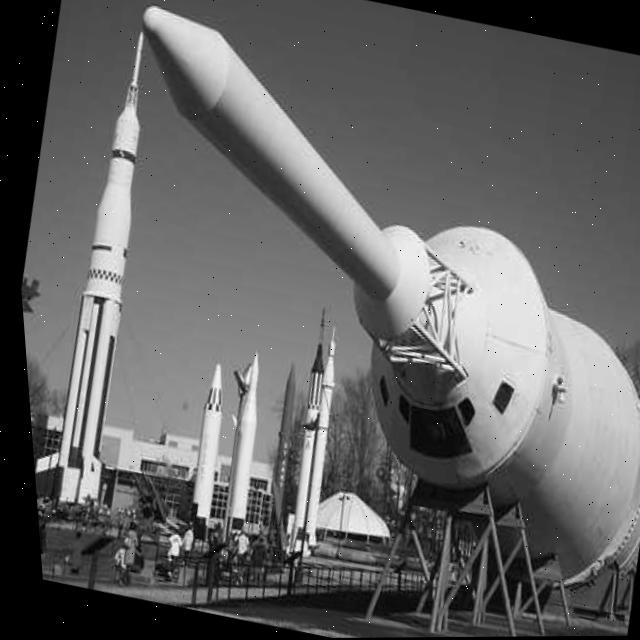missile: (45, 2, 640, 567), (5, 22, 189, 512), (273, 323, 353, 555), (203, 349, 276, 540), (166, 366, 238, 538)
